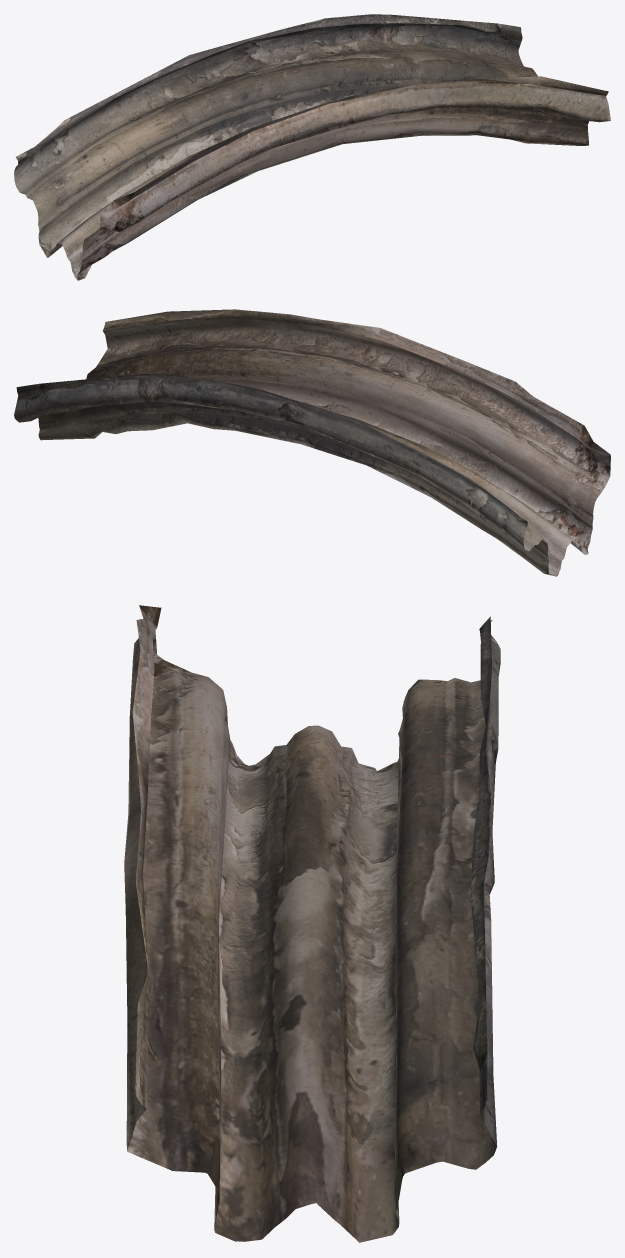
The model's file is SM_ChapelCeilingConnector_01_01.fbx.
3 views of the same model, one above another, from view 1: azimuth 30°, elevation 25°; view 2: azimuth 150°, elevation 25°; view 3: azimuth 270°, elevation 25° (orthographic). The views are drawn at different scales.
Visible parts, largest first — view 1: sm_ChapelCeilingConnector_01_01_LOD0; view 2: sm_ChapelCeilingConnector_01_01_LOD0; view 3: sm_ChapelCeilingConnector_01_01_LOD0.
Boxes of the visible parts, x1=… form: sm_ChapelCeilingConnector_01_01_LOD0: x1=14, y1=14, x2=610, y2=280; sm_ChapelCeilingConnector_01_01_LOD0: x1=14, y1=309, x2=610, y2=576; sm_ChapelCeilingConnector_01_01_LOD0: x1=124, y1=605, x2=500, y2=1242.
Bounding box in the file's own units: 80.95 × 250 × 69.22.
